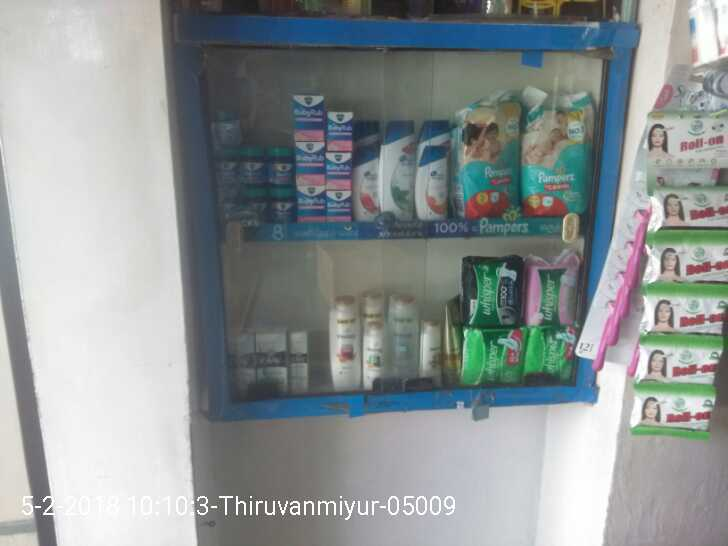vicks: (209, 85, 352, 222)
